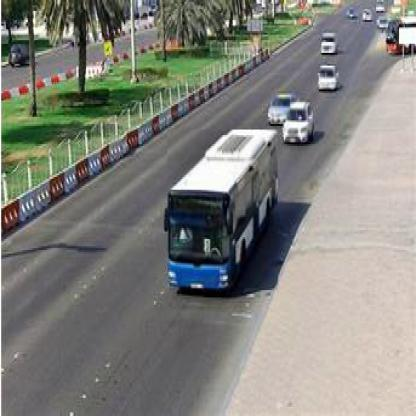bus: (167, 130, 279, 293)
car: (284, 101, 315, 145), (270, 90, 291, 129), (9, 41, 32, 67), (320, 67, 341, 90), (321, 30, 338, 56), (366, 8, 375, 23), (380, 16, 389, 30), (376, 3, 385, 14), (349, 9, 358, 18)
